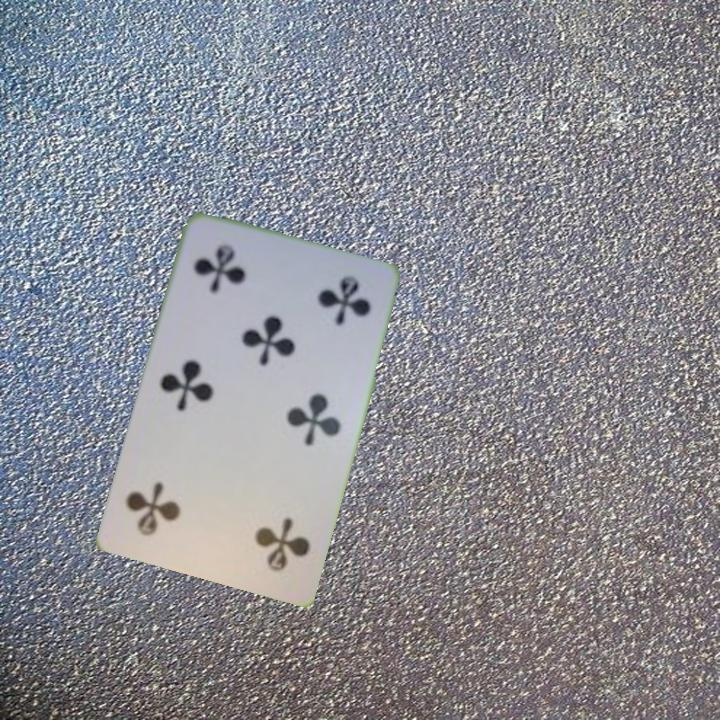c_7.png: (178, 227, 296, 336), (204, 480, 322, 589)
